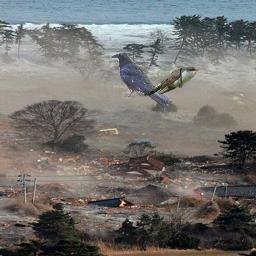Crow: (110, 52, 171, 109)
Cuckoo: (142, 66, 199, 96)
